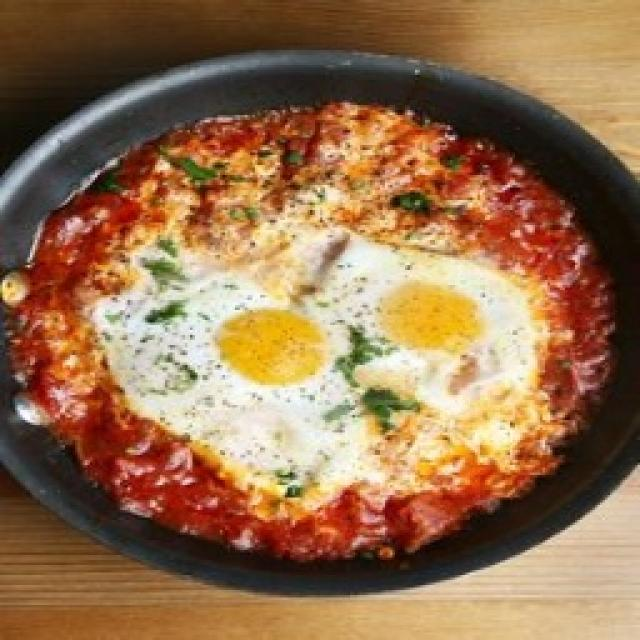Chakchouka: (0, 100, 622, 575)
